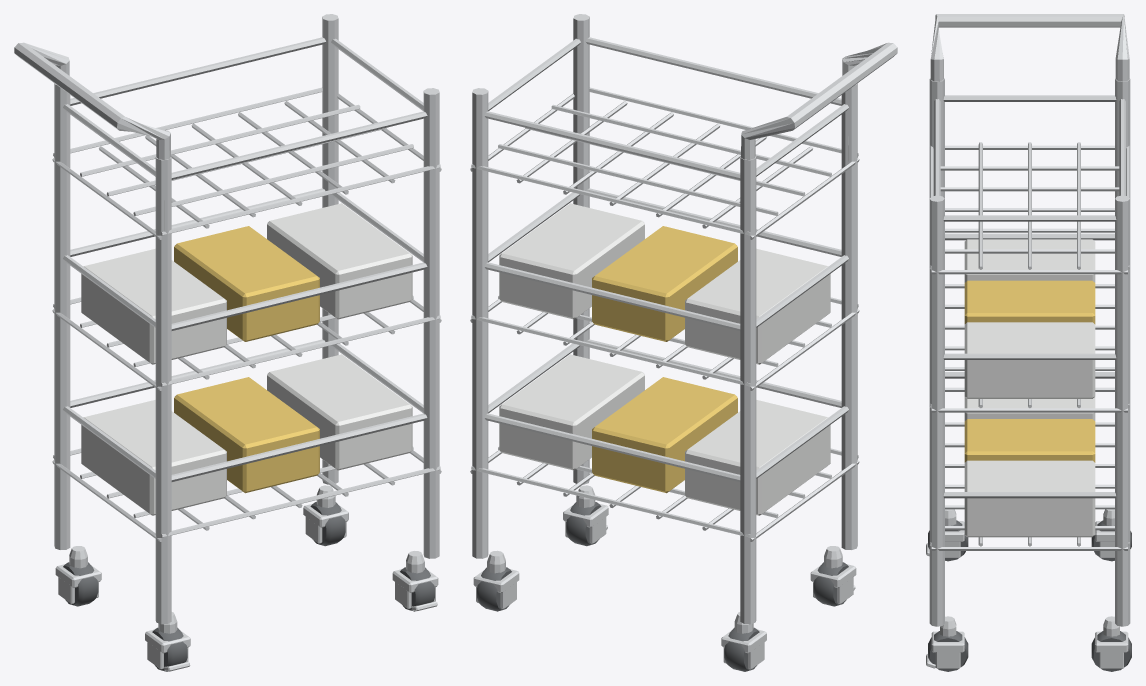
File: clinic-and-veterinary-practice-consumables-trolley-fef17367__16786.glb
3 renders of one model, left to right at view 1: azimuth 30°, elevation 25°; view 2: azimuth 150°, elevation 25°; view 3: azimuth 270°, elevation 25°, orthographic. The views are drawn at different scales.
Parts seen in each view (by area): view 1: consumables-trolley; view 2: consumables-trolley; view 3: consumables-trolley.
Boxes of the visible parts, x1,y1,x2,y2 form: consumables-trolley: (14, 14, 441, 671); consumables-trolley: (470, 14, 897, 671); consumables-trolley: (926, 14, 1131, 671).
Bounding box in the file's own units: 0.6261 × 1.05 × 0.3776.
